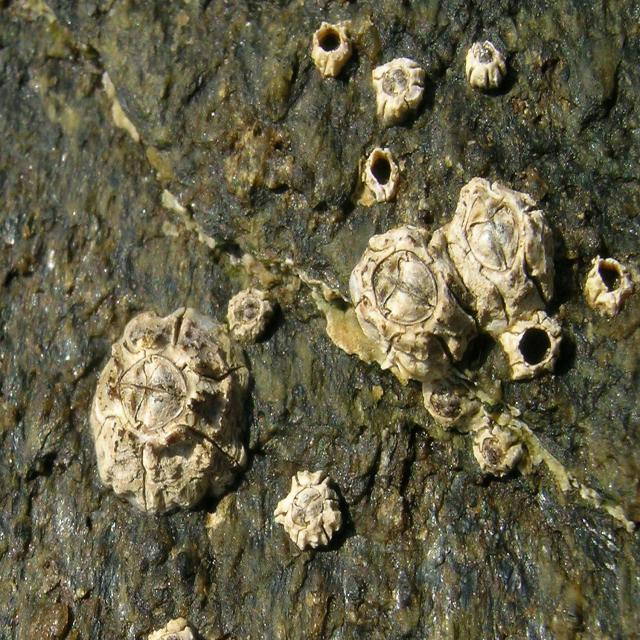barnacles: (94, 306, 250, 520), (348, 221, 465, 385), (441, 176, 556, 308), (272, 463, 342, 553), (493, 303, 560, 381), (368, 55, 428, 126), (580, 248, 633, 322), (470, 420, 530, 480), (305, 14, 354, 79), (225, 286, 278, 342), (463, 37, 509, 96), (422, 374, 472, 426), (359, 144, 402, 204)
